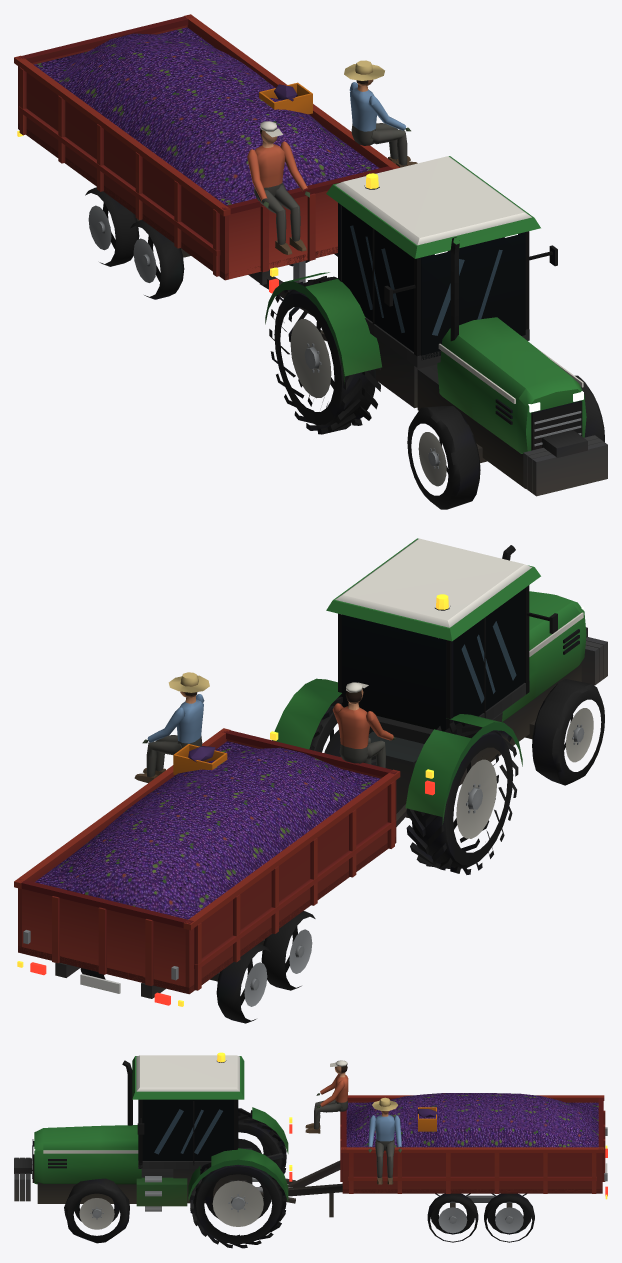
The model's file is vendimia_tractor.glb.
3 views of the same model, one above another, from view 1: azimuth 30°, elevation 25°; view 2: azimuth 150°, elevation 25°; view 3: azimuth 270°, elevation 25° (orthographic). The views are drawn at different scales.
Parts seen in each view (by area): view 1: t_body, t_trailer, t_wheel_rr, t_wheel_fr, t_picker_2, t_picker_1, t_wheel_t1r, t_wheel_t2r, t_crate, t_wheel_fl; view 2: t_trailer, t_body, t_wheel_rr, t_wheel_fr, t_picker_1, t_picker_2, t_wheel_t2r, t_wheel_t1r, t_crate, t_wheel_rl; view 3: t_trailer, t_body, t_wheel_rl, t_wheel_fl, t_picker_1, t_wheel_t1l, t_wheel_t2l, t_wheel_rr, t_picker_2, t_crate.
Part boxes in pixels (x1,y1,x2,y2): t_body: (265,156,607,496); t_trailer: (14,14,399,316); t_wheel_rr: (269,276,380,434); t_wheel_fr: (407,406,480,509); t_picker_2: (247,121,309,254); t_picker_1: (344,60,417,167); t_wheel_t1r: (130,220,184,299); t_wheel_t2r: (85,187,139,266); t_crate: (259,82,312,114); t_wheel_fl: (575,375,604,441); t_trailer: (14,728,400,1006); t_body: (270,538,607,826); t_wheel_rr: (406,721,518,874); t_wheel_fr: (532,679,604,785); t_picker_1: (134,672,209,782); t_picker_2: (332,682,395,767); t_wheel_t2r: (216,944,270,1023); t_wheel_t1r: (261,911,315,990); t_crate: (173,744,227,774); t_wheel_rl: (309,696,372,756); t_trailer: (288,1093,607,1217); t_body: (14,1052,295,1211); t_wheel_rl: (190,1163,286,1248); t_wheel_fl: (64,1178,129,1243); t_picker_1: (368,1097,401,1184); t_wheel_t1l: (427,1193,478,1242); t_wheel_t2l: (484,1193,534,1242); t_wheel_rr: (238,1108,286,1186); t_picker_2: (305,1060,348,1133); t_crate: (417,1107,437,1131).
Size of the model in its own units: 2.91 by 3.07 by 10.52.
Materials: 7 (1 with a texture image).
